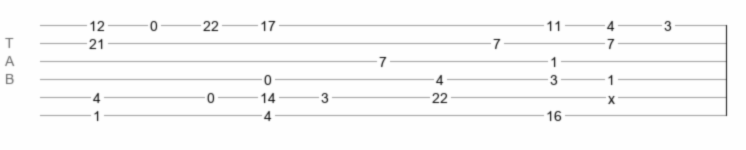0: (150, 18, 158, 28), (207, 90, 215, 100), (264, 72, 272, 82)
1: (93, 108, 101, 118), (550, 54, 558, 64), (607, 72, 615, 82)
11: (546, 18, 562, 28)
12: (89, 18, 105, 28)
14: (260, 90, 276, 100)
16: (546, 108, 562, 118)
17: (260, 18, 276, 28)
21: (89, 36, 105, 46)
22: (203, 18, 219, 28), (432, 90, 448, 100)
3: (321, 90, 329, 100), (550, 72, 558, 82), (664, 18, 672, 28)
4: (93, 90, 101, 100), (264, 108, 272, 118), (436, 72, 444, 82), (607, 18, 615, 28)
7: (379, 54, 387, 64), (493, 36, 501, 46), (607, 36, 615, 46)
x: (608, 91, 615, 99)
